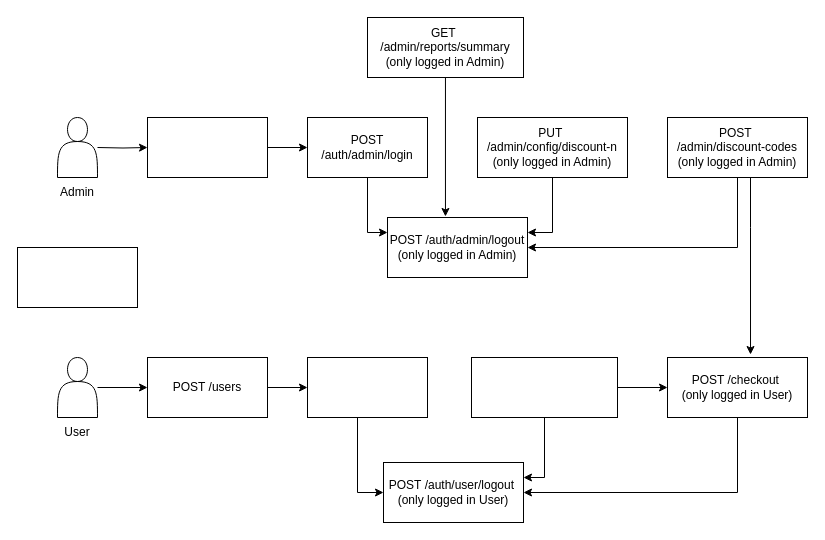
This 825x540 diagram has some shape labels left out. Each missing label, with the centre of its shape:
"GET /health" goes at pixel 77 277.
"POST /admins" goes at pixel 207 147.
"POST /auth/user/login" goes at pixel 367 387.
"POST /cart/items (only logged in User)" goes at pixel 544 387.
